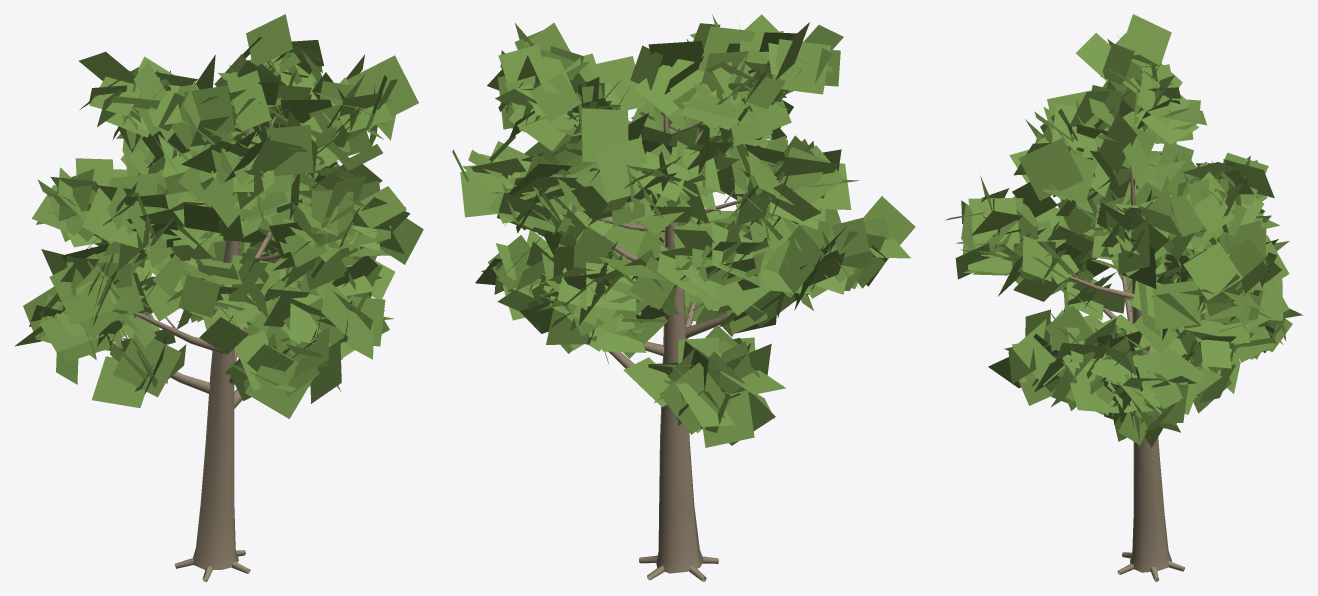
The model's file is oak-4-lod0.glb.
The picture shows the model from 3 angles, left to right: view 1: azimuth 30°, elevation 25°; view 2: azimuth 150°, elevation 25°; view 3: azimuth 270°, elevation 25°; orthographic projection. The views are drawn at different scales.
Parts seen in each view (by area): view 1: oak-4-lod0-foliage, oak-4-lod0-bark; view 2: oak-4-lod0-foliage, oak-4-lod0-bark; view 3: oak-4-lod0-foliage, oak-4-lod0-bark.
Boxes of the visible parts, left/top/right/bottom form: oak-4-lod0-foliage: left=14, top=14, right=423, bottom=418; oak-4-lod0-bark: left=110, top=116, right=337, bottom=581; oak-4-lod0-foliage: left=452, top=14, right=915, bottom=447; oak-4-lod0-bark: left=512, top=113, right=759, bottom=581; oak-4-lod0-foliage: left=945, top=14, right=1303, bottom=448; oak-4-lod0-bark: left=991, top=166, right=1184, bottom=581.
Bounding box in the file's own units: 15.48 × 21.96 × 14.26.
